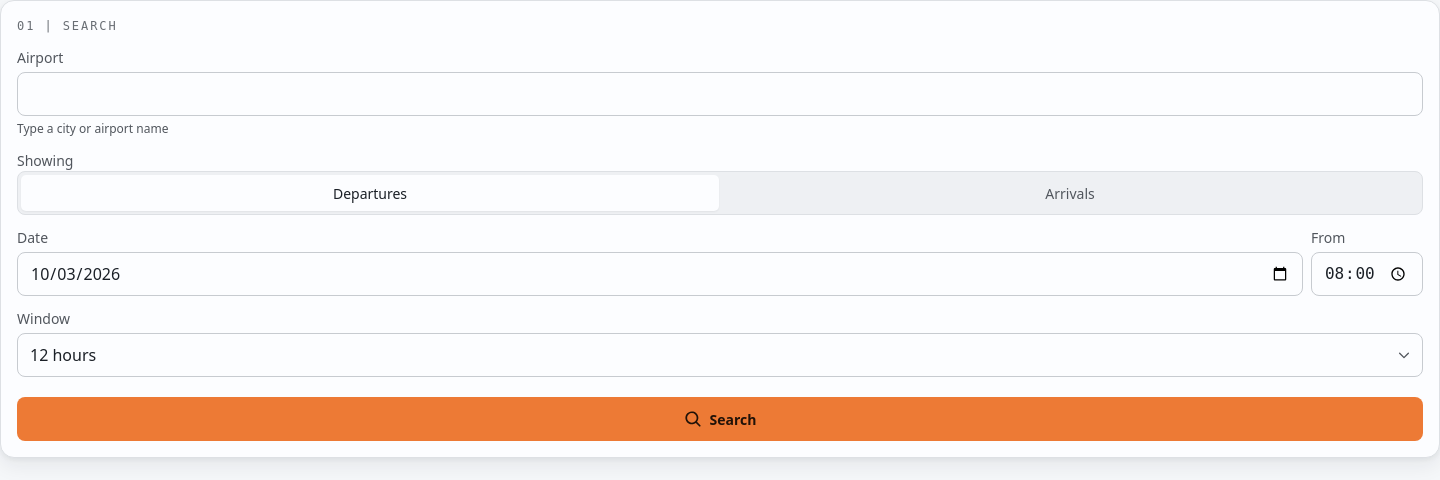
it: a window nobody could search › is never sent, and says which field is missing
Click the button "Search" at [720, 419], box [17,397,1423,441]
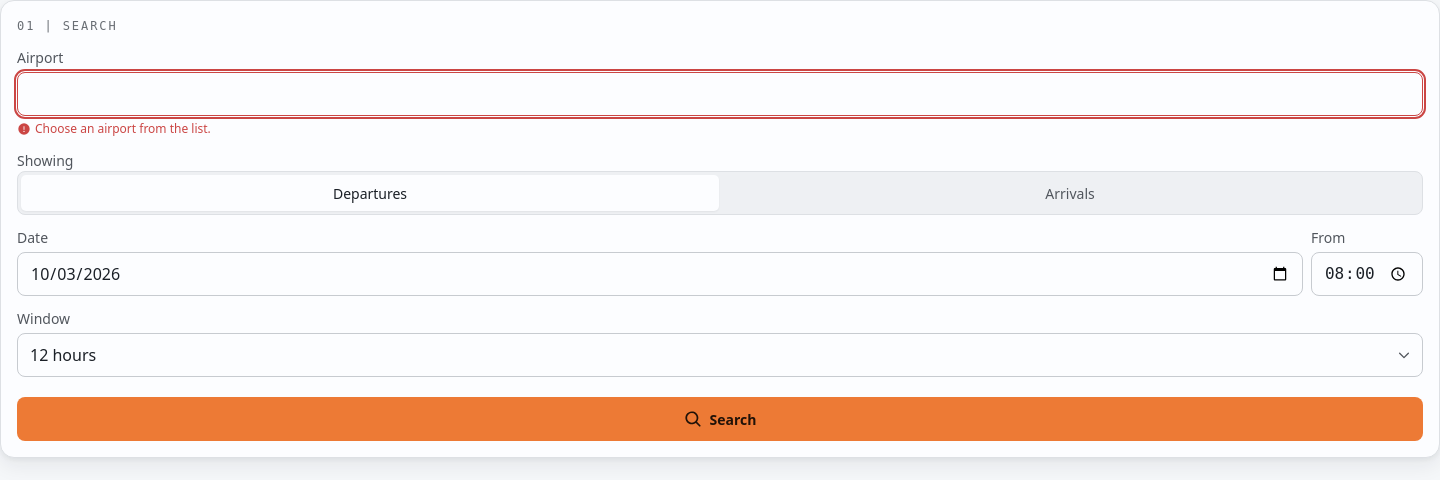
Expected: the message shows "Choose an airport", [35,120,211,137]
